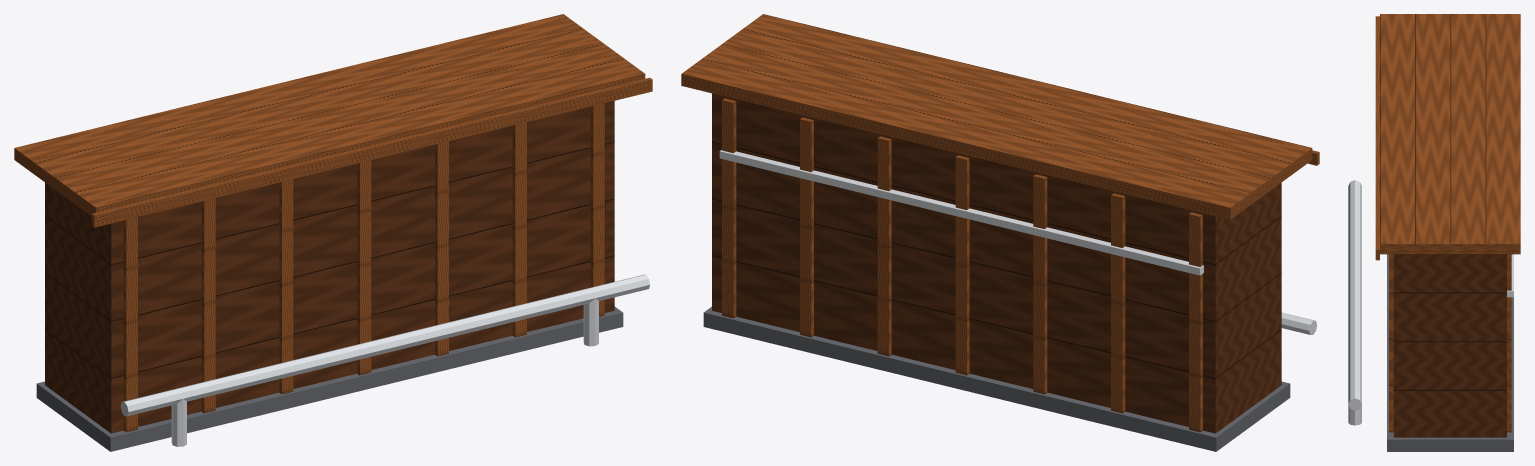
Rendered from standing_bar_with_rail.glb.
The picture shows the model from 3 angles, left to right: view 1: azimuth 30°, elevation 25°; view 2: azimuth 150°, elevation 25°; view 3: azimuth 270°, elevation 25°; orthographic projection. The views are drawn at different scales.
Parts seen in each view (by area): view 1: standing-bar-with-rail-darkwood, standing-bar-with-rail-timber, standing-bar-with-rail-charcoal, standing-bar-with-rail-steel; view 2: standing-bar-with-rail-darkwood, standing-bar-with-rail-timber, standing-bar-with-rail-charcoal, standing-bar-with-rail-steel; view 3: standing-bar-with-rail-timber, standing-bar-with-rail-darkwood, standing-bar-with-rail-steel, standing-bar-with-rail-charcoal.
Boxes of the visible parts, <box> form: standing-bar-with-rail-darkwood: <box>45,101,614,433</box>; standing-bar-with-rail-timber: <box>14,14,652,432</box>; standing-bar-with-rail-charcoal: <box>36,306,623,451</box>; standing-bar-with-rail-steel: <box>120,274,649,446</box>; standing-bar-with-rail-darkwood: <box>712,93,1281,433</box>; standing-bar-with-rail-timber: <box>681,14,1319,432</box>; standing-bar-with-rail-charcoal: <box>703,306,1290,451</box>; standing-bar-with-rail-steel: <box>719,150,1316,334</box>; standing-bar-with-rail-timber: <box>1375,14,1520,432</box>; standing-bar-with-rail-darkwood: <box>1393,254,1506,437</box>; standing-bar-with-rail-steel: <box>1348,180,1513,425</box>; standing-bar-with-rail-charcoal: <box>1387,254,1513,451</box>.
Bounding box in the file's own units: 2.44 × 1.05 × 0.76.
Materials: 5 (2 with a texture image).
